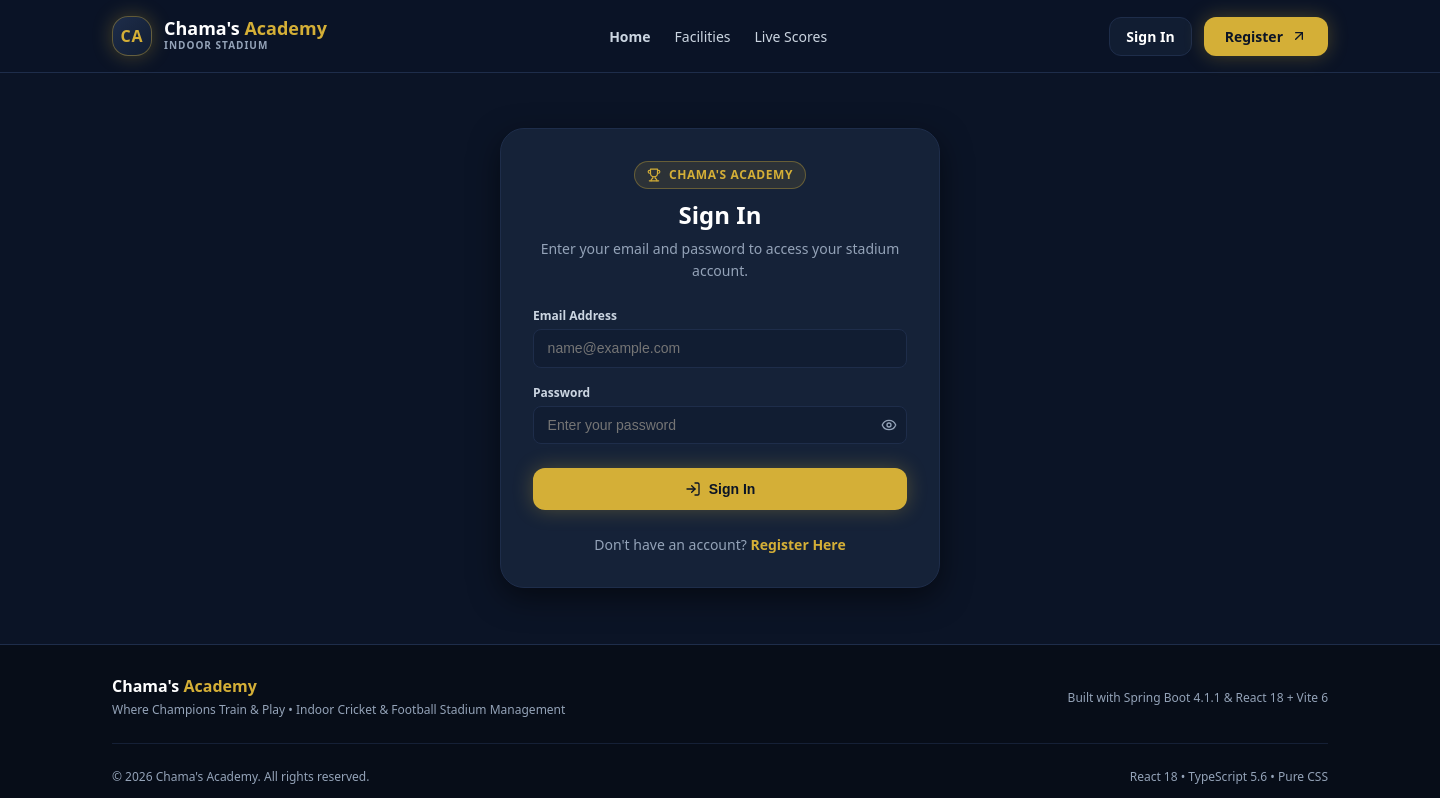
it: Login Page Component and Flow › validates empty email and password inputs before API submission
Click the button "Sign In".
click(720, 489)  # box 533,468 -> 907,510
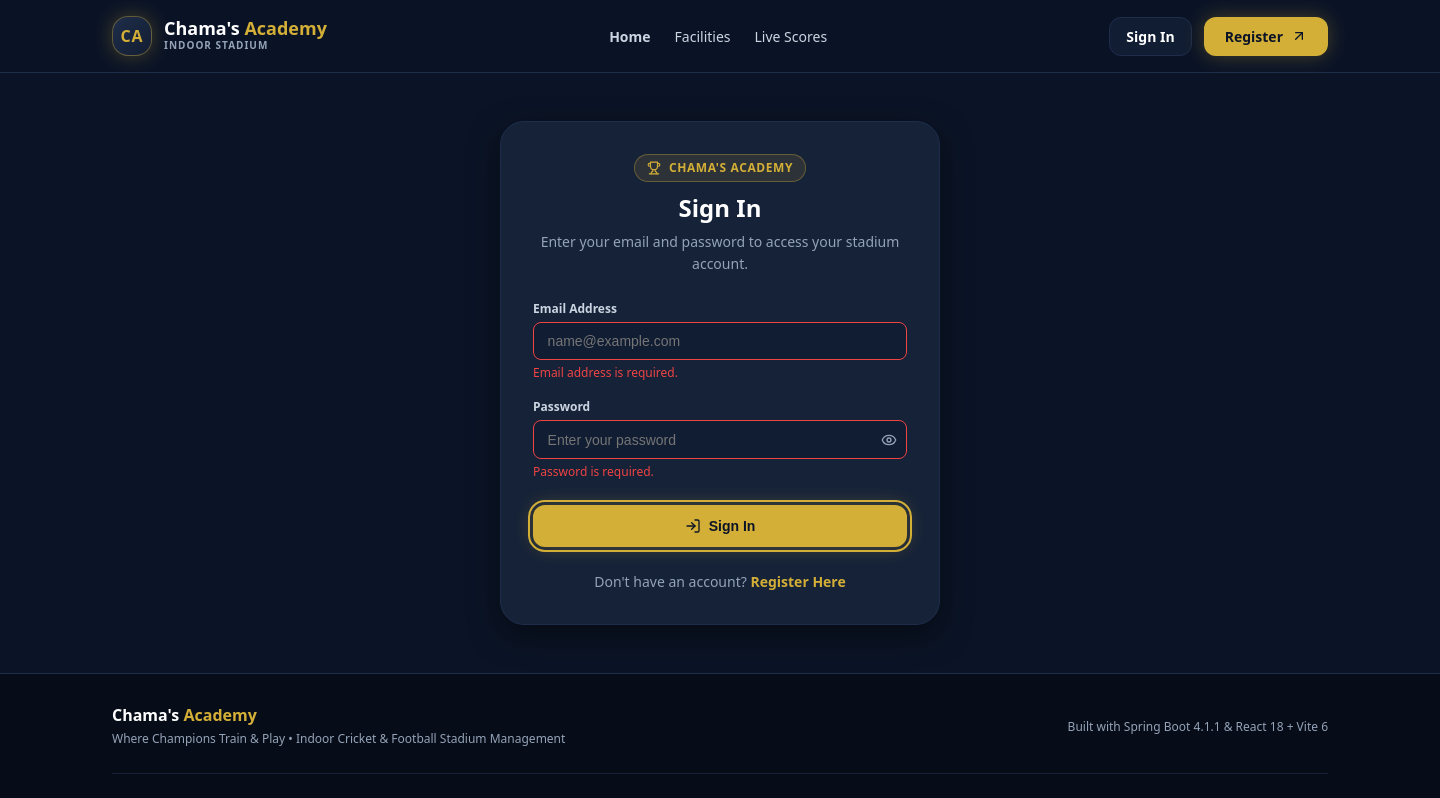
Now the text "Email address is required." is shown, box 533,364 -> 678,381
Now the text "Password is required." is shown, box 533,463 -> 654,480
